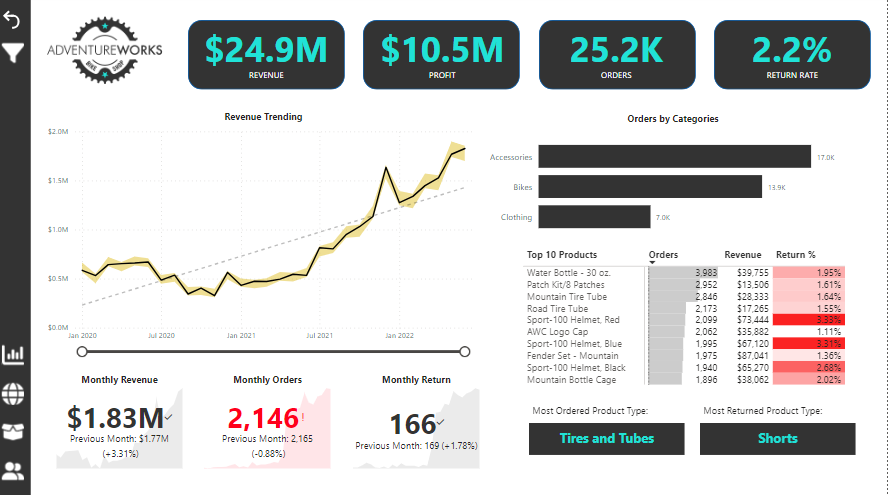

What the dashboard file says about the page in this screenshot:
{"tool":"powerbi","page":{"name":"Exec Dashboard","canvas":[1280,720],"ordinal":0},"visuals":[{"type":"card","fields":{"Values":["Measure Table.Total Revenue"]},"box":[262.9,0,242.9,165.7],"z":0,"group":"g2"},{"type":"image","title":"AW Logo","box":[45.7,21.4,212.9,115.7],"z":0},{"type":"group","id":"g1","title":"KPI Background","box":[271.5,35.7,982.9,100],"z":0,"group":"g3"},{"type":"shape","box":[271.5,35.7,225.7,100],"z":0,"group":"g1"},{"type":"actionButton","box":[0,498.2,46.1,40.3],"z":0,"group":"g4"},{"type":"shape","title":"Left Nav Background","box":[0,0,45.7,720],"z":1000},{"type":"group","id":"g2","title":"KPI Values","box":[262.9,0,1000,165.7],"z":1000,"group":"g3"},{"type":"card","fields":{"Values":["Measure Table.Total Profit"]},"box":[515.8,0,242.9,165.7],"z":1000,"group":"g2"},{"type":"shape","box":[523.9,35.7,225.7,100],"z":1000,"group":"g1"},{"type":"actionButton","box":[0,553.9,46.1,40.3],"z":1000,"group":"g4"},{"type":"group","id":"g3","title":"KPI's","box":[262.9,0,1000,165.7],"z":2000},{"type":"card","fields":{"Values":["Measure Table.Total Orders"]},"box":[767.2,0,242.9,165.7],"z":2000,"group":"g2"},{"type":"shape","box":[776.3,35.7,225.7,100],"z":2000,"group":"g1"},{"type":"actionButton","box":[0,609.6,46.1,40.3],"z":2000,"group":"g4"},{"type":"card","fields":{"Values":["Measure Table.Return Rate"]},"box":[1020,0,242.9,165.7],"z":3000,"group":"g2"},{"type":"shape","box":[1028.6,35.7,225.7,100],"z":3000,"group":"g1"},{"type":"lineChart","title":"Revenue Trending","fields":{"Y":["Measure Table.Total Revenue"],"Category":["Calendar Lookup.Start of Month"]},"box":[64.8,165.6,632.2,358.6],"z":3000},{"type":"actionButton","box":[0,665.2,46.1,40.3],"z":3000,"group":"g4"},{"type":"kpi","title":"Monthly Revenue","fields":{"Indicator":["Measure Table.Total Revenue"],"TrendLine":["Calendar Lookup.Start of Month"],"Goal":["Measure Table.Previous Month Revenue"]},"box":[77.8,544.3,191.5,142.6],"z":4000},{"type":"kpi","title":"Monthly Orders","fields":{"TrendLine":["Calendar Lookup.Start of Month"],"Indicator":["Measure Table.Total Orders"],"Goal":["Measure Table.Previous Month Orders"]},"box":[291.6,544.3,191.5,142.6],"z":5000},{"type":"kpi","title":"Monthly Return","fields":{"TrendLine":["Calendar Lookup.Start of Month"],"Indicator":["Measure Table.Total Returns"],"Goal":["Measure Table.Previous Month Returns"]},"box":[505.4,544.3,191.5,142.6],"z":6000},{"type":"barChart","title":"Orders by Categories","fields":{"Category":["Product Categories Lookup.CategoryName"],"Y":["Measure Table.Total Orders"]},"box":[697,168.5,547.2,191.5],"z":7000},{"type":"pivotTable","fields":{"Rows":["Product Lookup.ProductName"],"Values":["Measure Table.Total Orders","Measure Table.Total Revenue","Measure Table.Return Rate"]},"box":[750,360,478.6,210],"z":8000},{"type":"card","fields":{"Values":["Min(Product Subcategories Lookup.SubcategoryName)"]},"box":[762.9,615.7,224.3,45.7],"z":9000},{"type":"textbox","box":[762.9,584.3,194.3,31.4],"z":10000},{"type":"card","fields":{"Values":["Min(Product Subcategories Lookup.SubcategoryName)"]},"box":[1010,615.7,224.3,45.7],"z":11000},{"type":"textbox","box":[1010,584.3,194.3,31.4],"z":12000},{"type":"actionButton","box":[0,17.3,46.1,36],"z":13000},{"type":"group","id":"g4","title":"Navigation Buttons","box":[0,498.2,46.1,207.4],"z":14000},{"type":"actionButton","box":[0,63.4,46.1,40.3],"z":15000}]}

Visuals, with their boxes on the page's 1280x720 design canvas (x1, y1, x2, y2). These are canvas units, not pixel positions in the 888x495 screenshot, which may show the page scaled, cropped or inside an application window:
card - Measure Table.Total Revenue: 263,0,506,166
"AW Logo" image: 46,21,259,137
"KPI Background" group: 272,36,1254,136
shape: 272,36,497,136
actionButton: 0,498,46,538
"Left Nav Background" shape: 0,0,46,720
"KPI Values" group: 263,0,1263,166
card - Measure Table.Total Profit: 516,0,759,166
shape: 524,36,750,136
actionButton: 0,554,46,594
"KPI's" group: 263,0,1263,166
card - Measure Table.Total Orders: 767,0,1010,166
shape: 776,36,1002,136
actionButton: 0,610,46,650
card - Measure Table.Return Rate: 1020,0,1263,166
shape: 1029,36,1254,136
"Revenue Trending" lineChart: 65,166,697,524
actionButton: 0,665,46,706
"Monthly Revenue" kpi: 78,544,269,687
"Monthly Orders" kpi: 292,544,483,687
"Monthly Return" kpi: 505,544,697,687
"Orders by Categories" barChart: 697,168,1244,360
pivotTable - Product Lookup.ProductName x Measure Table.Total Orders: 750,360,1229,570
card - Min(Product Subcategories Lookup.SubcategoryName): 763,616,987,661
textbox: 763,584,957,616
card - Min(Product Subcategories Lookup.SubcategoryName): 1010,616,1234,661
textbox: 1010,584,1204,616
actionButton: 0,17,46,53
"Navigation Buttons" group: 0,498,46,706
actionButton: 0,63,46,104
